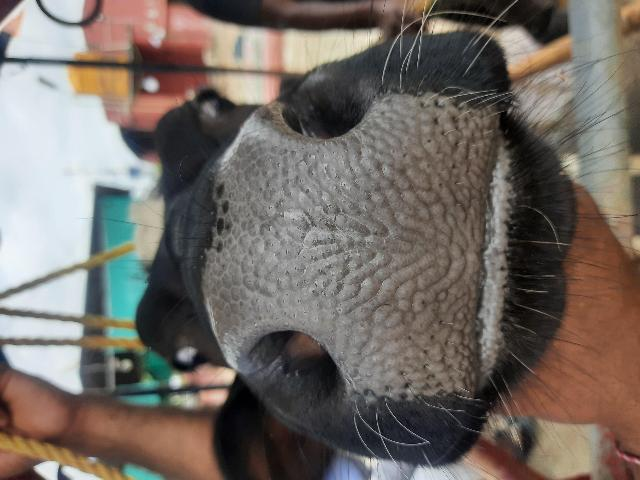Muzzle: (219, 144, 475, 340)
